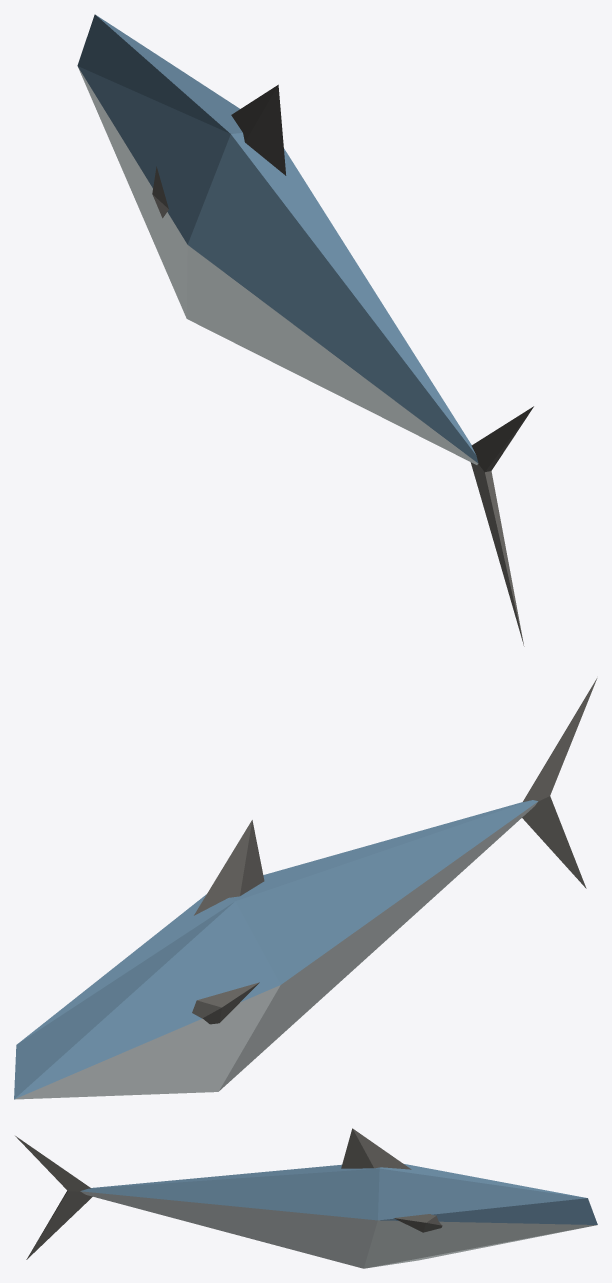
Rendered from fish.obj.
3 renders of one model, top to bottom at view 1: azimuth 30°, elevation 25°; view 2: azimuth 150°, elevation 25°; view 3: azimuth 270°, elevation 25°, orthographic. The views are drawn at different scales.
Visible parts, largest first — view 1: Mackerel; view 2: Mackerel; view 3: Mackerel.
Part boxes in pixels (x1,y1,x2,y2): Mackerel: (77, 14, 533, 646); Mackerel: (14, 678, 597, 1099); Mackerel: (15, 1128, 597, 1268).
Size of the model in its own units: 25.82 by 50.26 by 175.
1 material, 1 textured.
